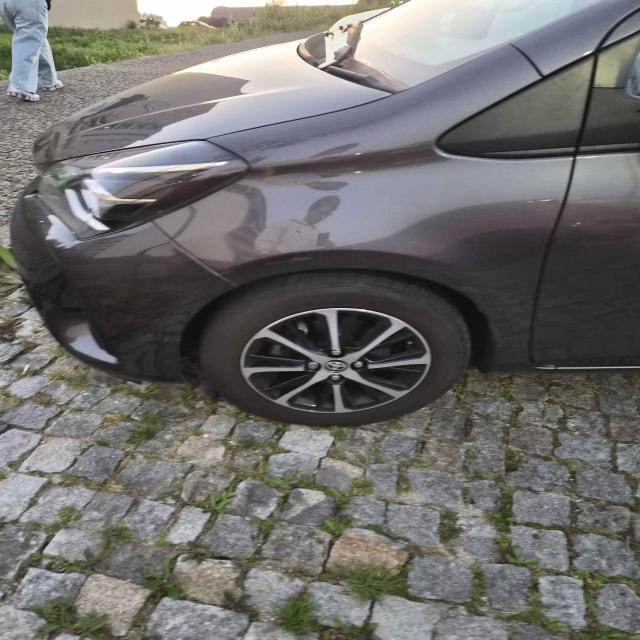jante: (240, 308, 433, 412)
parafuso: (302, 359, 321, 372), (328, 372, 345, 386), (349, 360, 365, 371), (328, 348, 342, 358)
roda: (195, 268, 476, 427)
